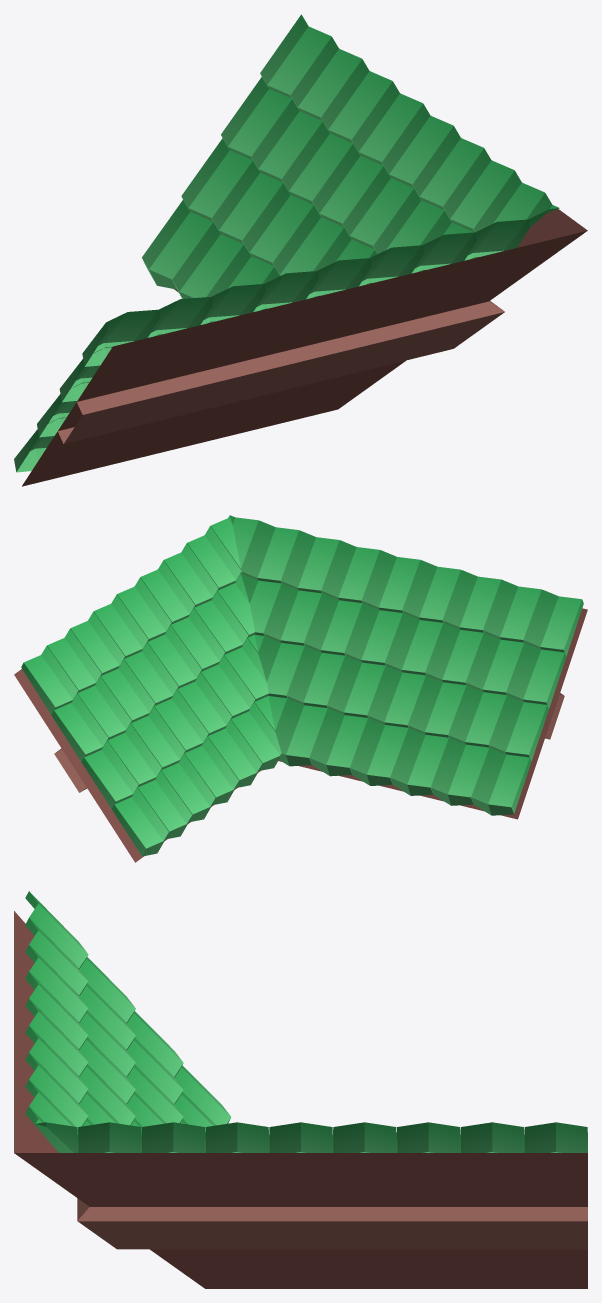
Rendered from RoofCorner_Medium.fbx.
3 views of the same model, one above another, from view 1: azimuth 30°, elevation 25°; view 2: azimuth 150°, elevation 25°; view 3: azimuth 270°, elevation 25° (orthographic). The views are drawn at different scales.
Parts seen in each view (by area): view 1: RoofCorner_Medium; view 2: RoofCorner_Medium; view 3: RoofCorner_Medium.
Part boxes in pixels (<box>): RoofCorner_Medium: <box>14,14,587,486</box>; RoofCorner_Medium: <box>14,515,587,862</box>; RoofCorner_Medium: <box>14,891,587,1288</box>.
Size of the model in its own units: 3.6 by 3.6 by 1.64.
